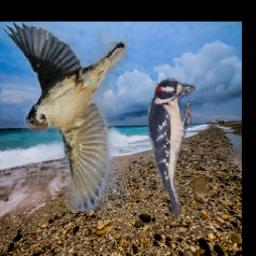Sparrow: (0, 22, 127, 211)
Woodpecker: (147, 77, 196, 216)
